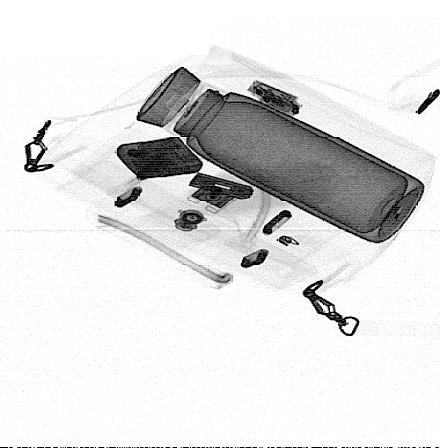Lighter: (115, 136, 203, 180)
